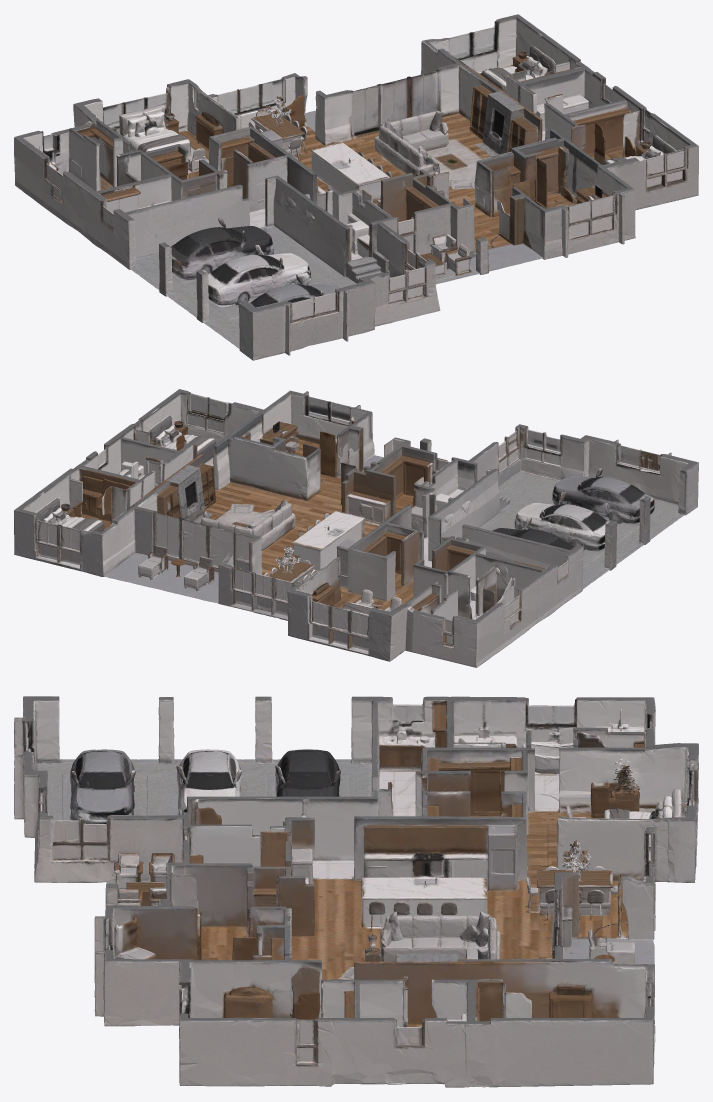
File: cypress-0.glb
3 views of the same model, one above another, from view 1: azimuth 30°, elevation 25°; view 2: azimuth 150°, elevation 25°; view 3: azimuth 270°, elevation 25° (orthographic). The views are drawn at different scales.
Parts seen in each view (by area): view 1: geometry_0; view 2: geometry_0; view 3: geometry_0.
Boxes of the visible parts, x1,y1,x2,y2 form: geometry_0: (14,14,698,360); geometry_0: (14,389,698,667); geometry_0: (14,696,698,1087).
Bounding box in the file's own units: 28.23 × 3 × 25.11.
Materials: 1 (1 with a texture image).
